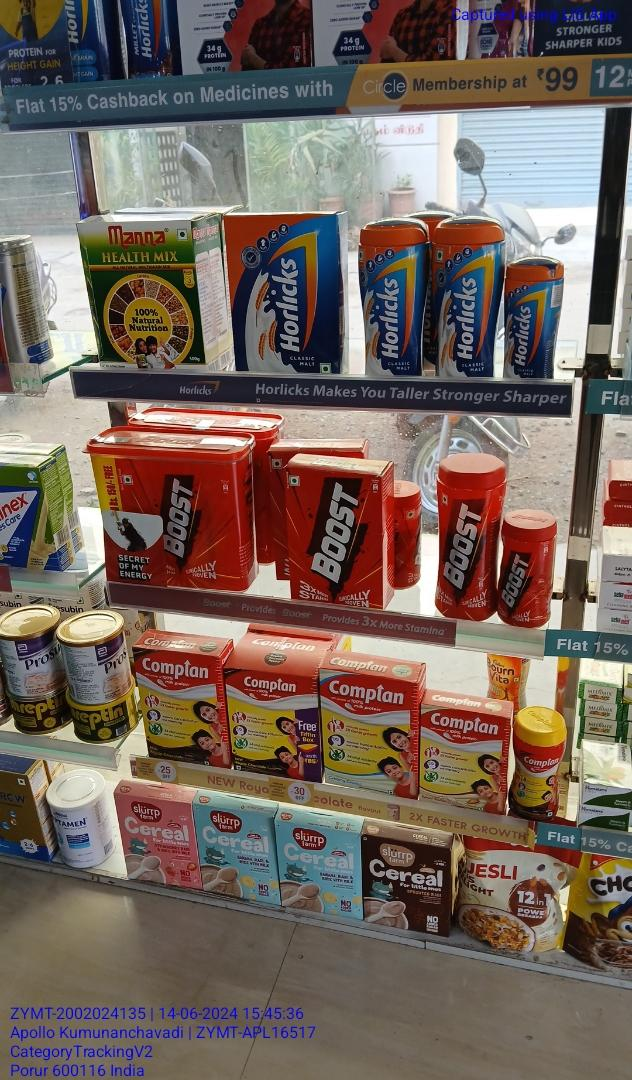COMPLAN_CHOCOLATE_200_GMS_JAR: (513, 717, 558, 821)
COMPLAN_CHOCOLATE_500_GMS_PACK: (226, 668, 315, 782), (138, 648, 220, 765)
COMPLAN_CREAMY_CLASSIC_500_G_PACK: (323, 667, 415, 794)
COMPLAN_KESAR_BADAM_200_GMS_PACK: (422, 705, 506, 812)
HORLICK_CLASSIC_MALT_200_G_JAR: (505, 261, 556, 380)
HORLICK_CLASSIC_MALT_500_G_JAR: (432, 219, 495, 377), (360, 223, 423, 376)
HORLICK_CLASSIC_MALT_500_G_PACK: (225, 212, 342, 373)
